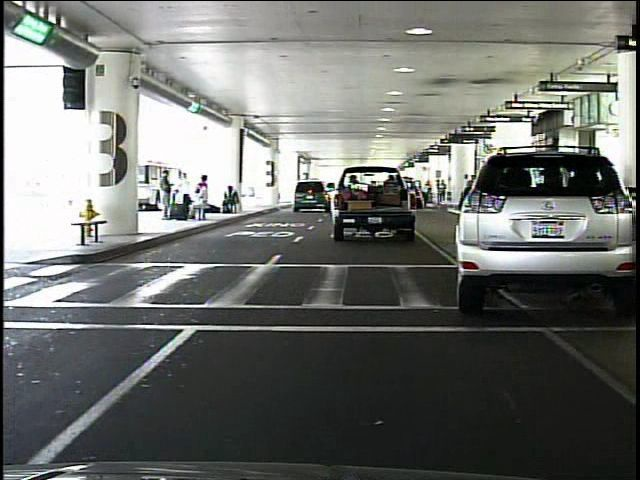person: (157, 168, 177, 220)
